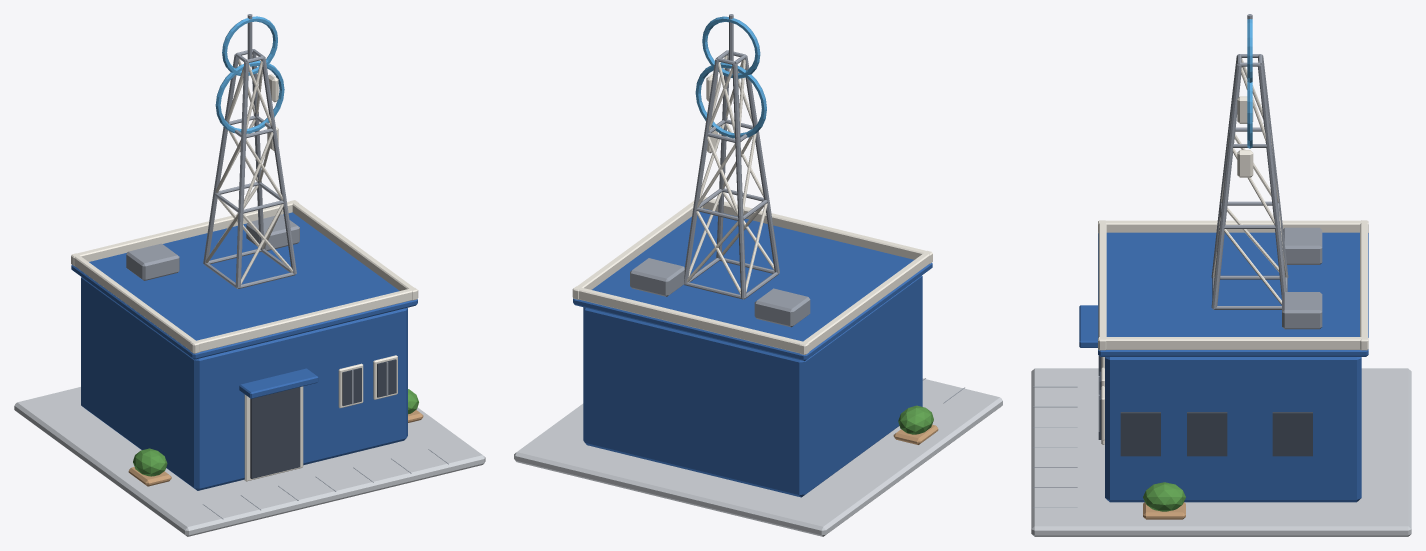
Rendered from telecom.glb.
The picture shows the model from 3 angles, left to right: view 1: azimuth 30°, elevation 25°; view 2: azimuth 150°, elevation 25°; view 3: azimuth 270°, elevation 25°; orthographic projection. The views are drawn at different scales.
Parts seen in each view (by area): view 1: telecom; view 2: telecom; view 3: telecom.
Boxes of the visible parts, x1=… form: telecom: x1=14, y1=14, x2=485, y2=536; telecom: x1=514, y1=14, x2=1002, y2=536; telecom: x1=1031, y1=14, x2=1411, y2=536.
Bounding box in the file's own units: 8 × 10.45 × 8.
Materials: 1 (1 with a texture image).
